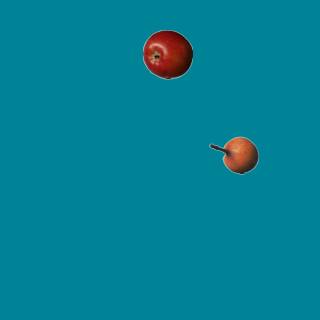Apple Braeburn: (142, 29, 192, 79)
Granadilla: (208, 130, 258, 180)
